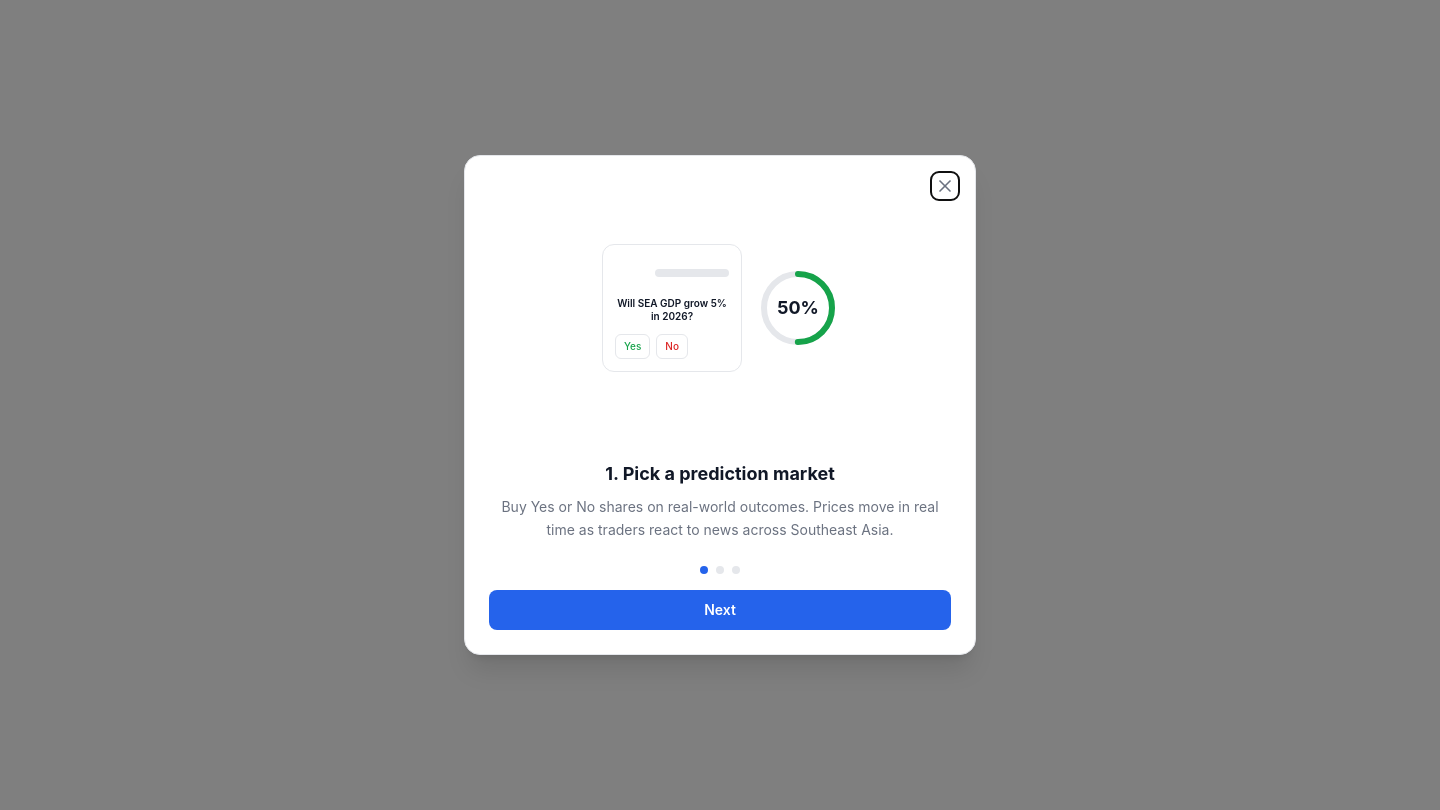
Scenario: HowItWorksModal › allows jumping steps via dot indicators
This screenshot has width=1440, height=810.
Click the button named "Step 3" at (736, 570), box [732,566,740,574]
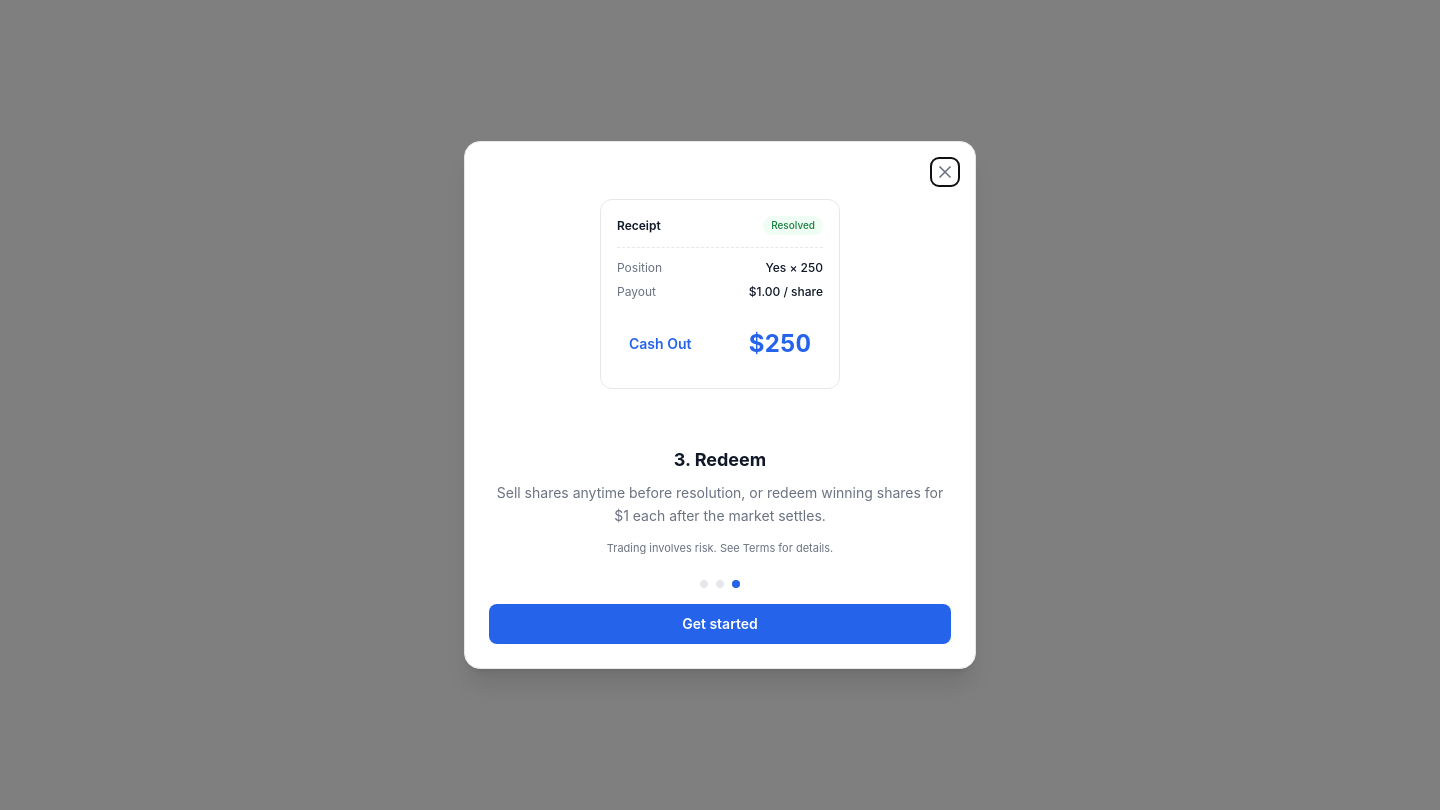
Expected: the heading "3. Redeem" is shown, [674,449,766,470]
